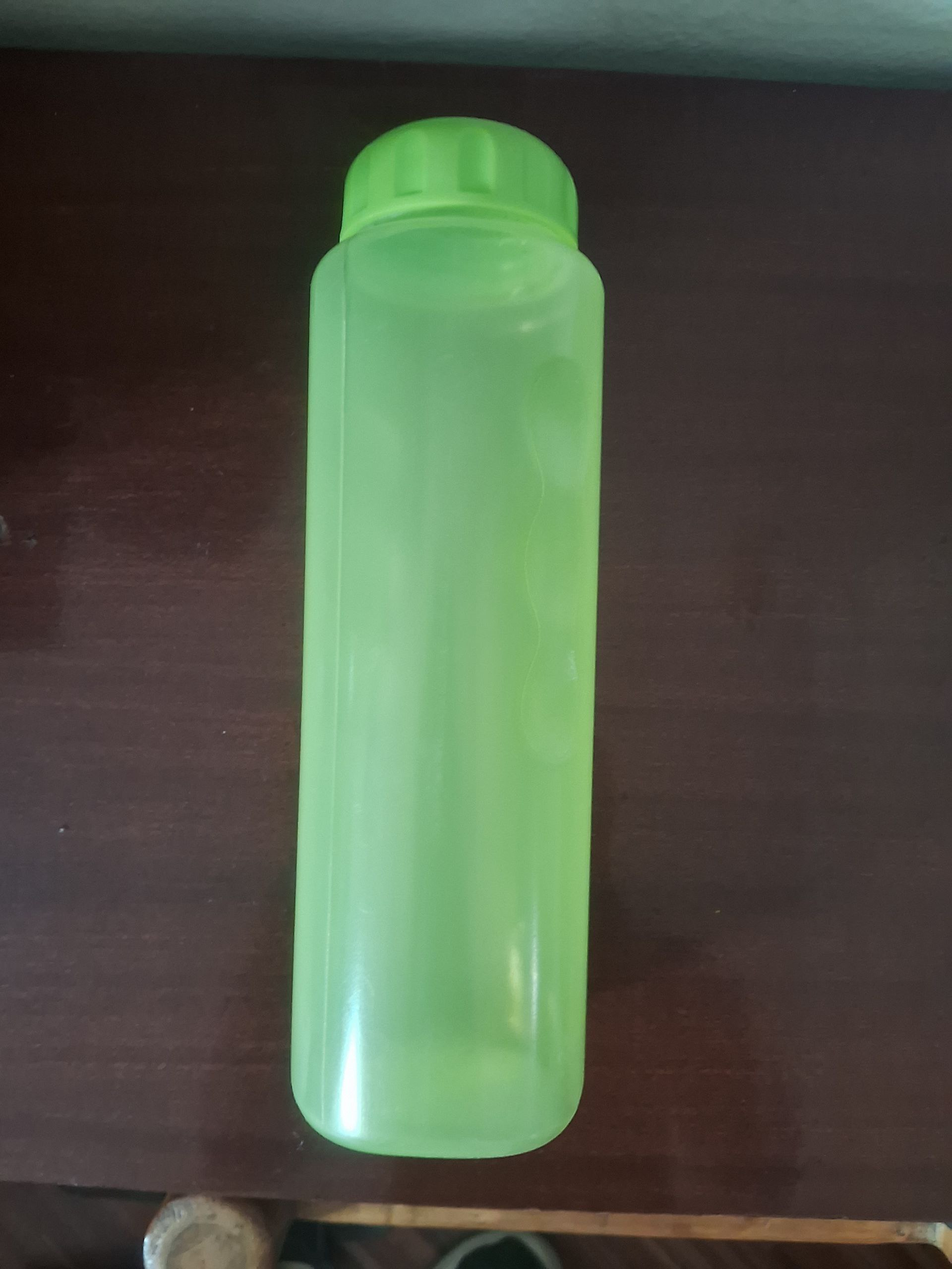Water_bottle: (283, 99, 614, 1175)
